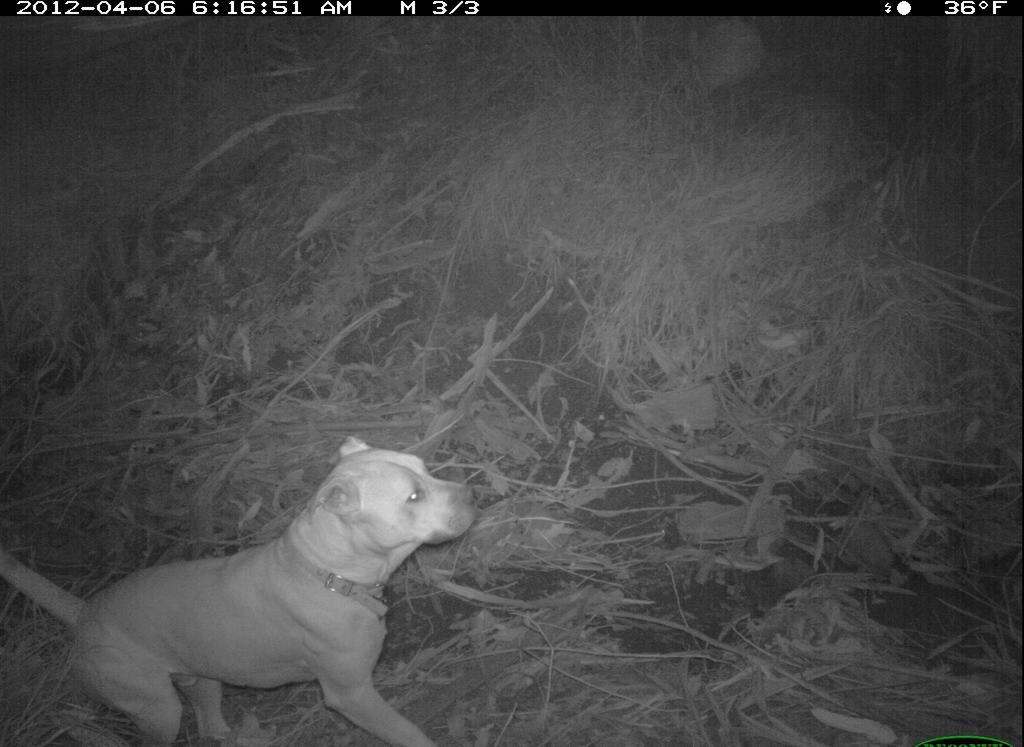dog: (4, 432, 487, 745)
